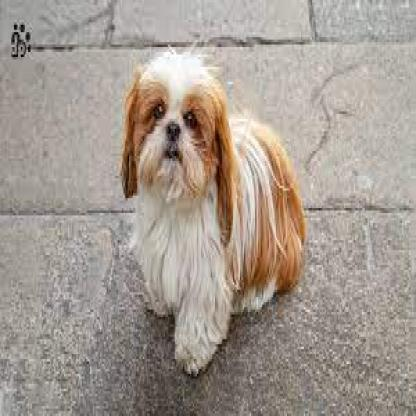Shih Tzu: (106, 42, 308, 340)
